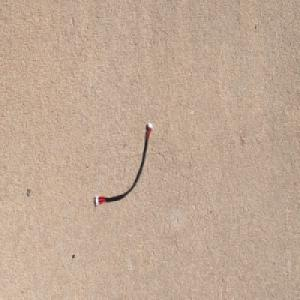Wire: (94, 121, 153, 206)
